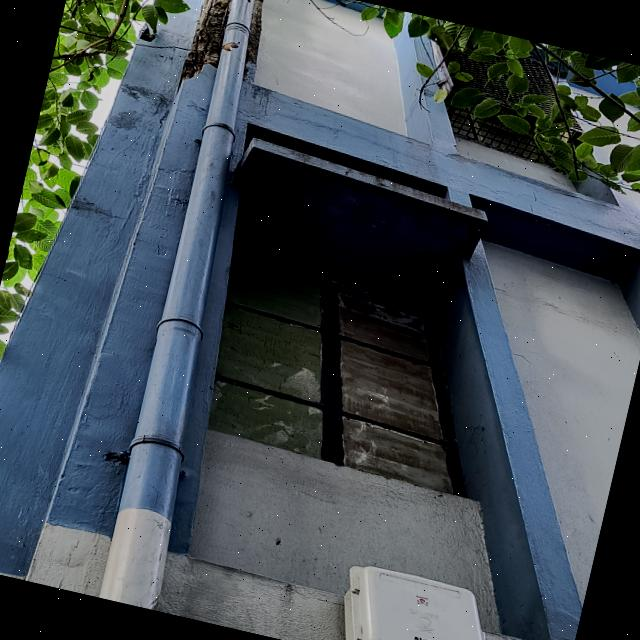Spalling: (181, 0, 231, 79), (246, 0, 262, 63)
